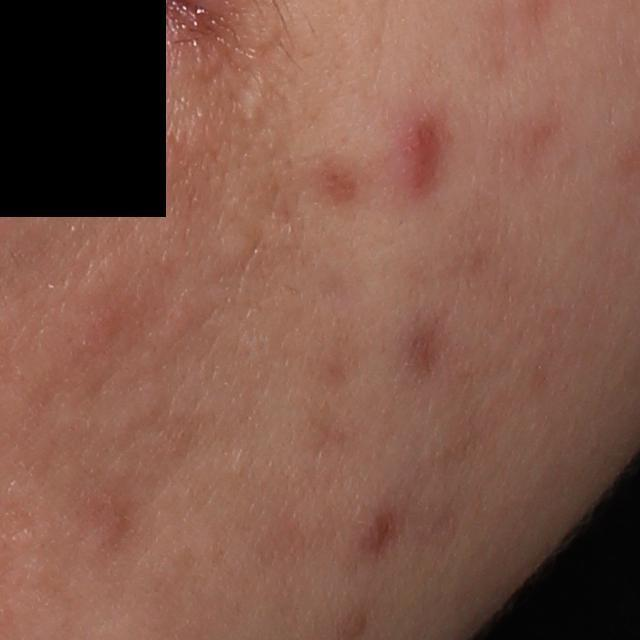hypertrophic_scar: (149, 293, 204, 357), (210, 224, 259, 272), (238, 82, 270, 123)
papule: (395, 113, 448, 191), (357, 512, 392, 553)
